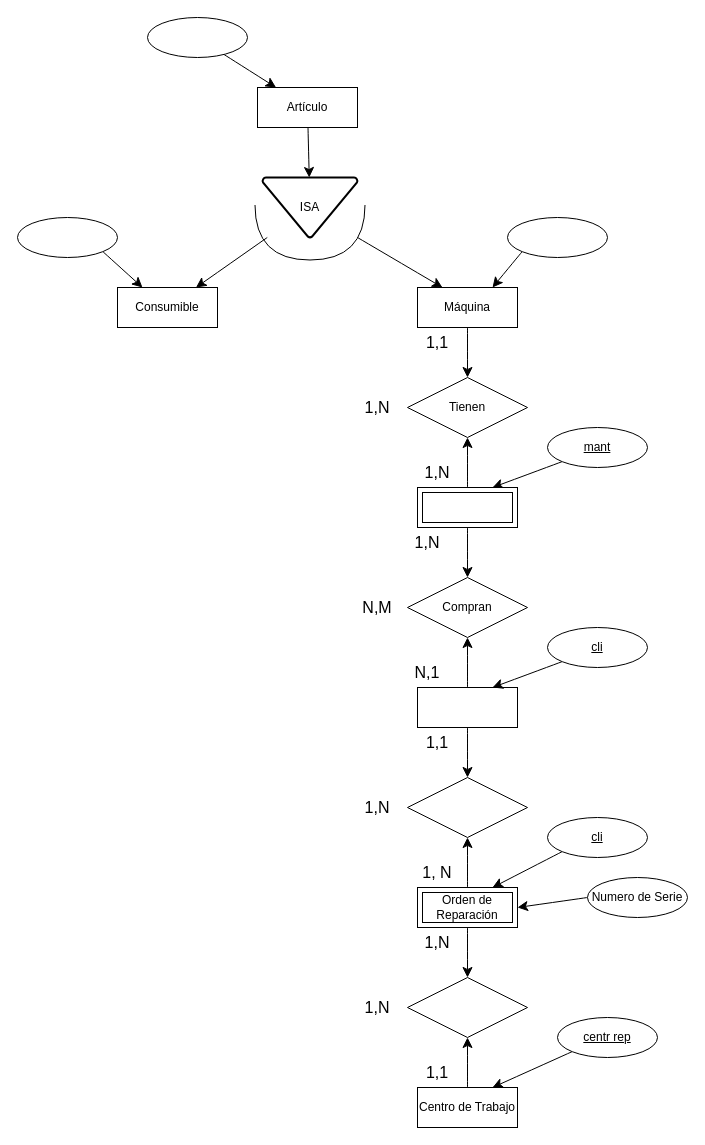
Some shapes in this 705 by 1145 pixel diagram are drawn without their labels. Each missing label, with the box of its shape:
Articulo: (146, 16, 248, 58)
Asigna: (406, 976, 528, 1038)
Cliente: (416, 686, 518, 728)
Contrato de Mantenimiento: (416, 486, 518, 528)
Envía: (406, 776, 528, 838)
Maq: (506, 216, 608, 258)
Piezas de Desgaste: (16, 216, 118, 258)
